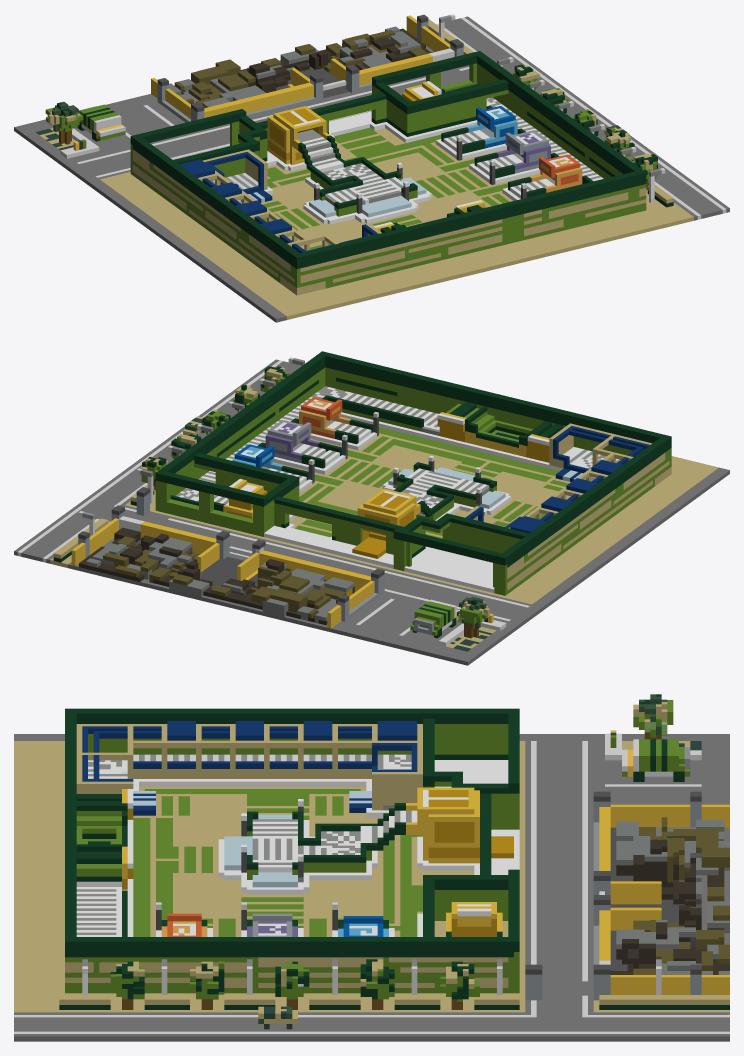
Rendered from MapWithSprites.gltf.
3 renders of one model, top to bottom at view 1: azimuth 30°, elevation 25°; view 2: azimuth 150°, elevation 25°; view 3: azimuth 270°, elevation 25°, orthographic. The views are drawn at different scales.
Size of the model in its own units: 12.6 by 1.2 by 12.6.
1 material, 1 textured.
